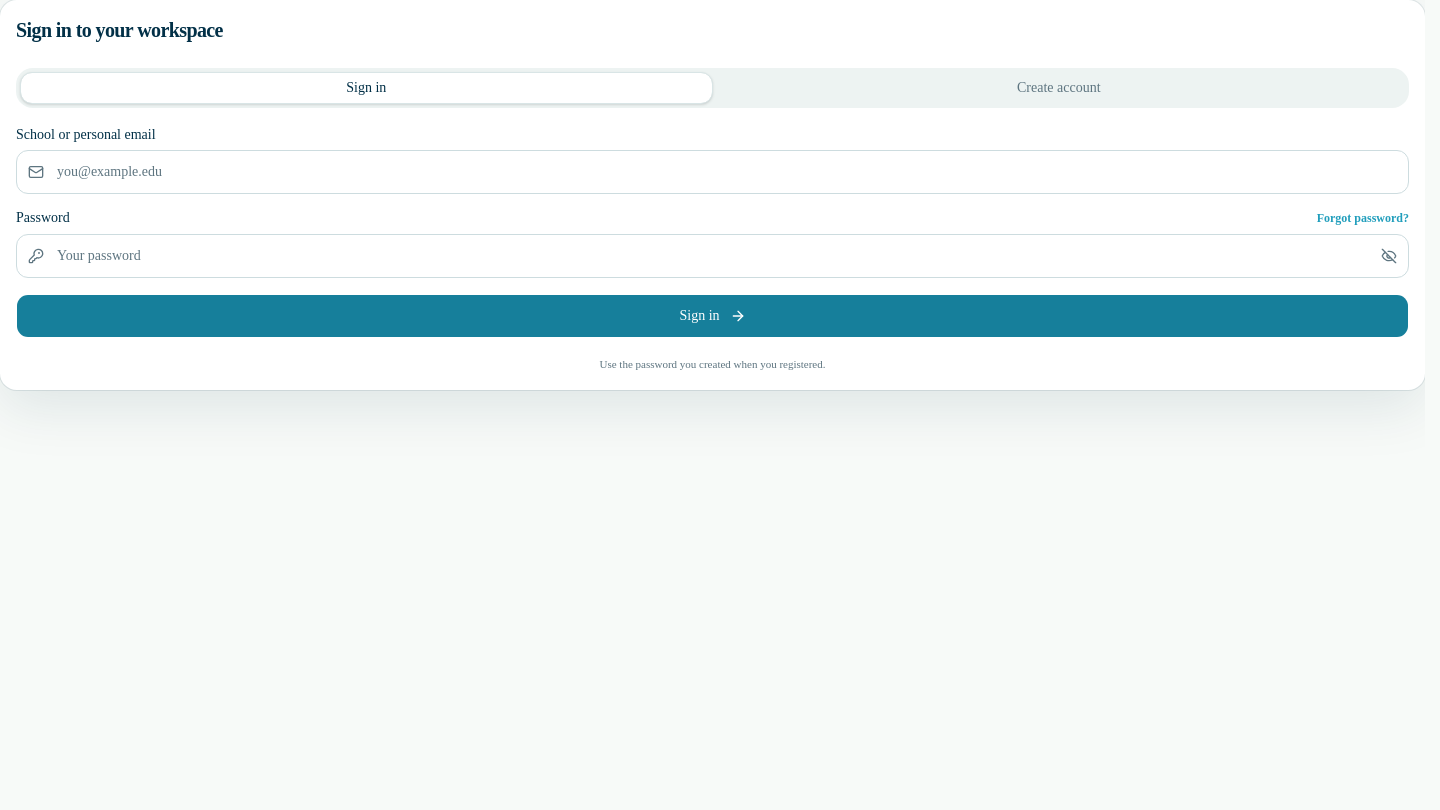
Scenario: AuthForm › requires a directory school when creating an account
Click the button "Create account". click: (1059, 88)
box: [712,72,1405,104]
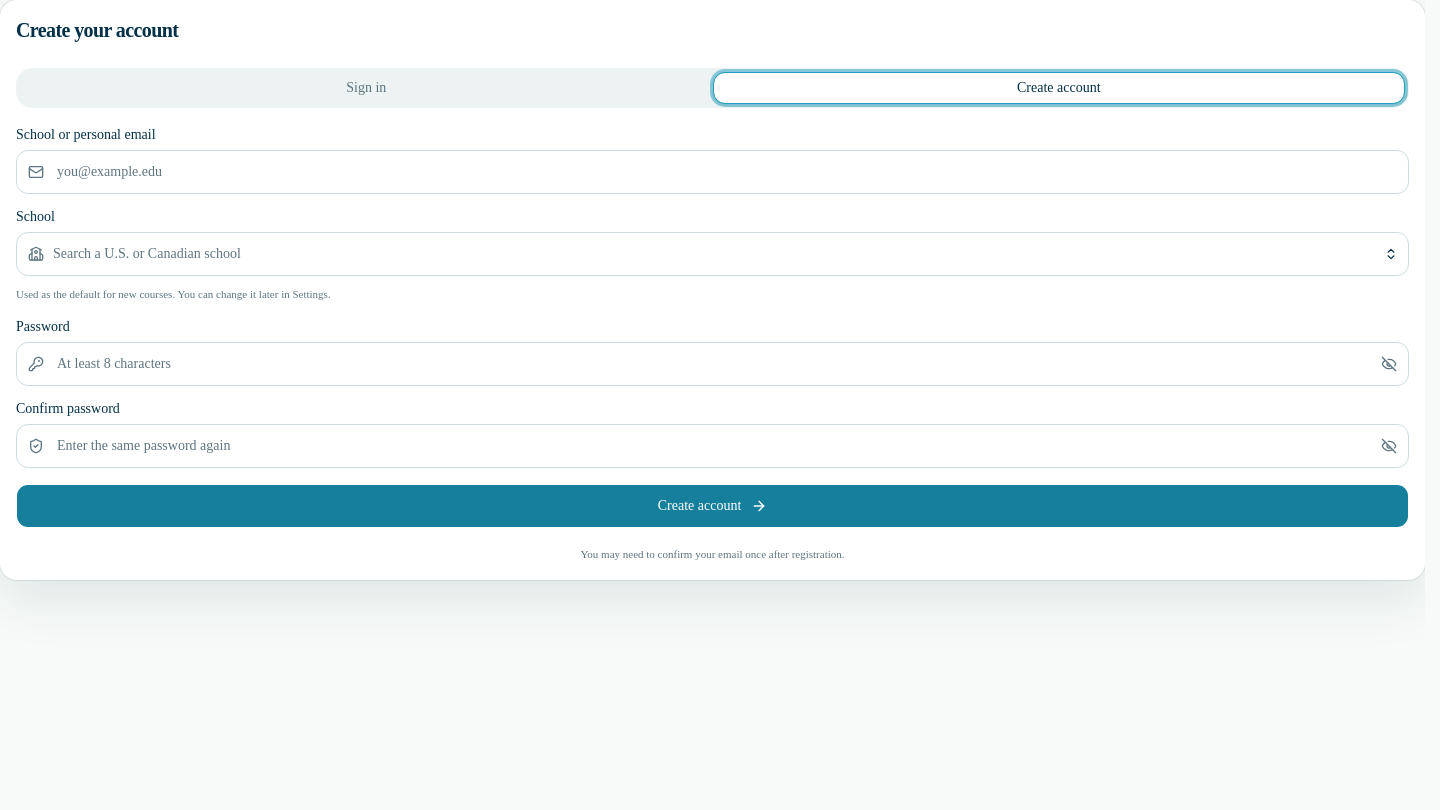
Type "new@example.edu" into the field labelled "School or personal email". click: (712, 172)
box: [16,150,1409,194]
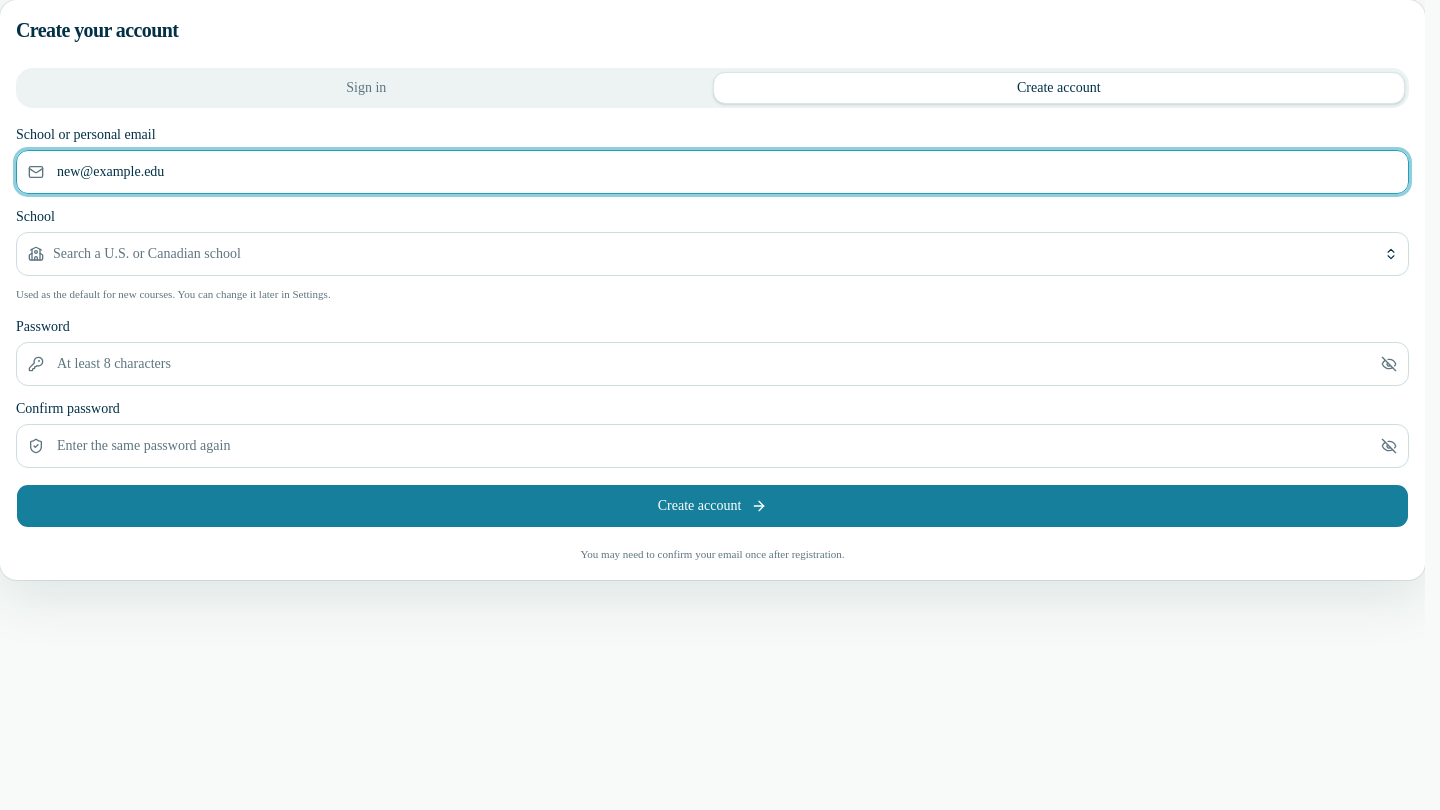
Type "strong-pass-123" into the password field labelled "Password". click: (712, 364)
box: [16,342,1409,386]
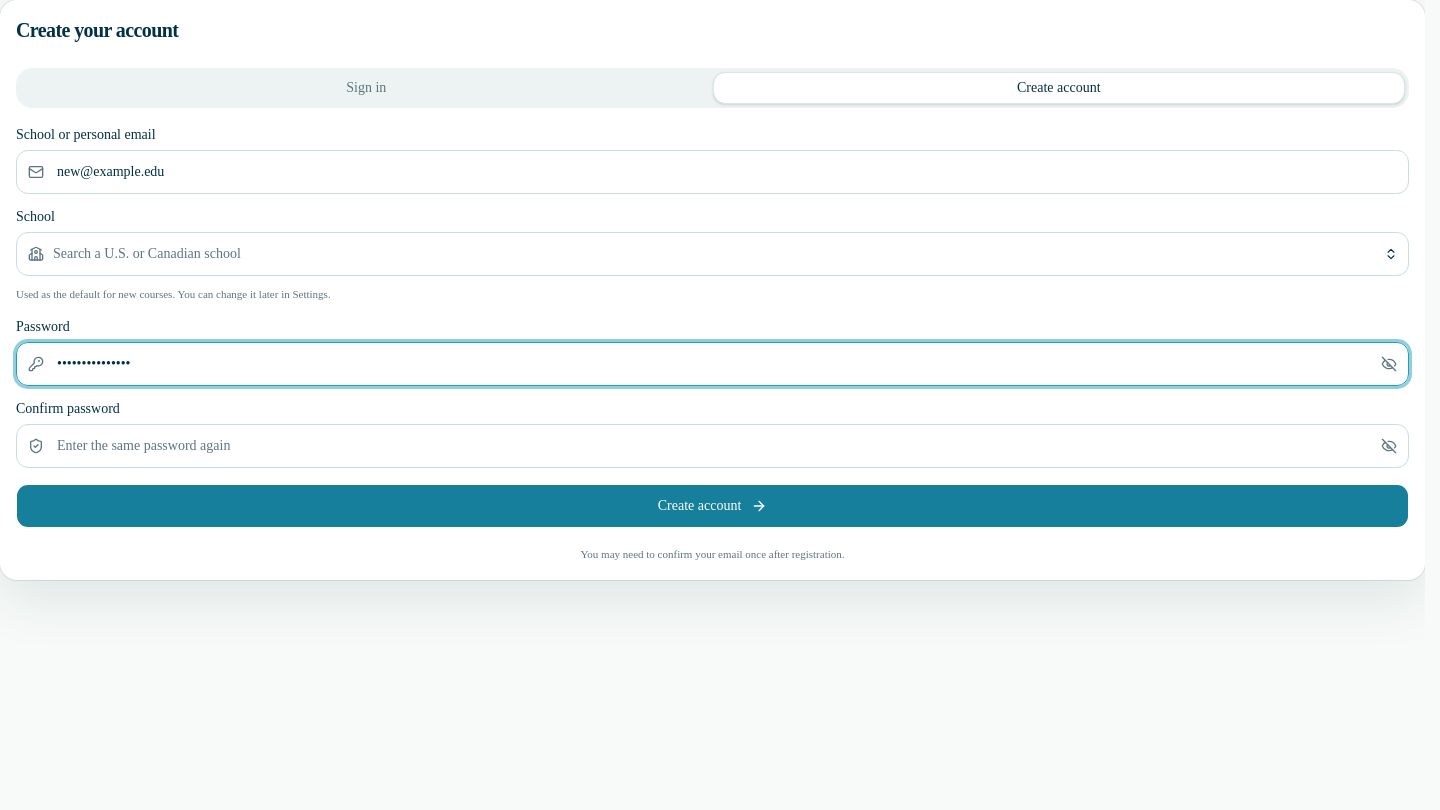
Type "strong-pass-123" into the password field labelled "Confirm password". click: (712, 446)
box: [16,424,1409,468]
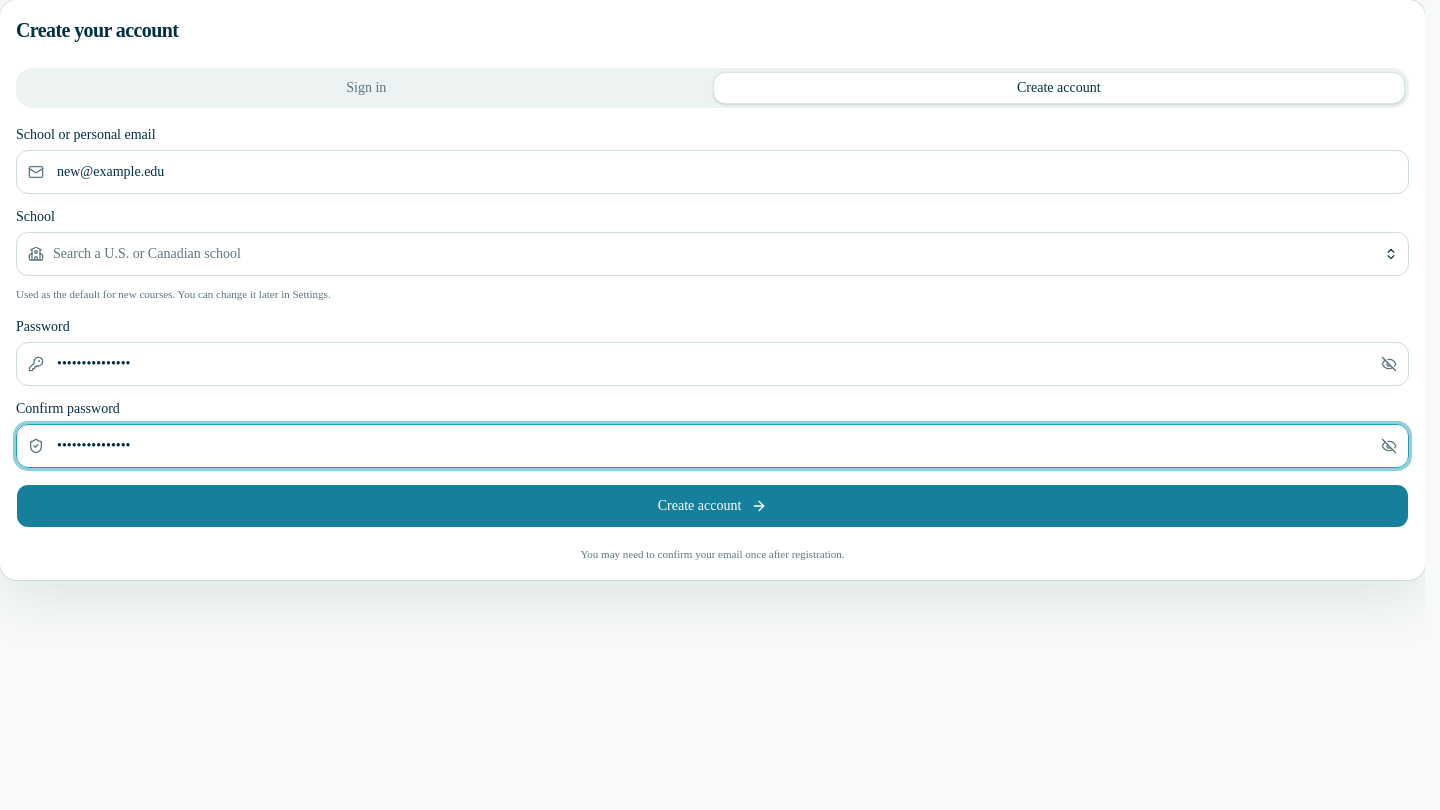
Click the button "Create account" below "Confirm password". click: (712, 506)
box: [16,484,1409,528]
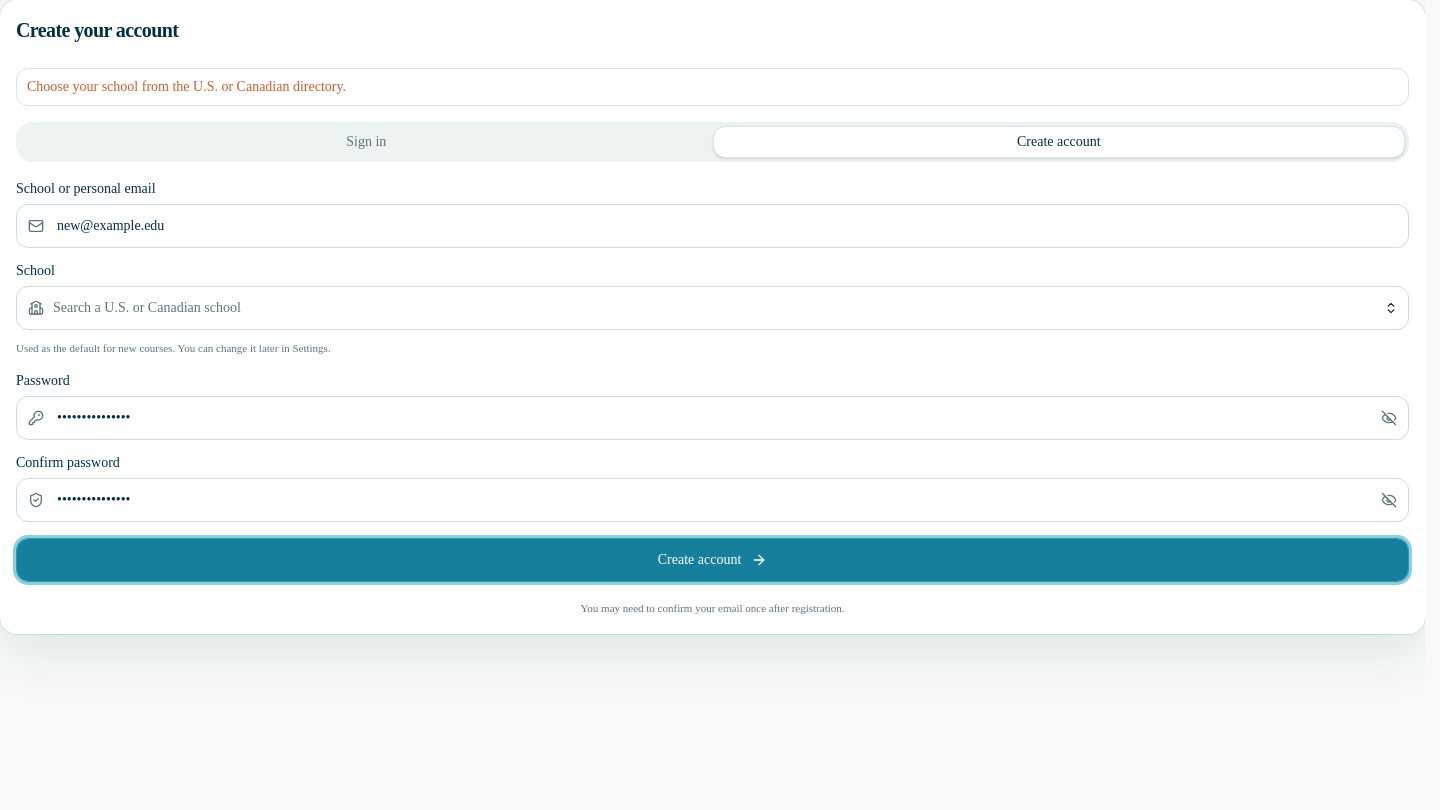
expect the message shows "Choose your school from the U.S. or Canadian directory": met, box [27,79,346,94]
